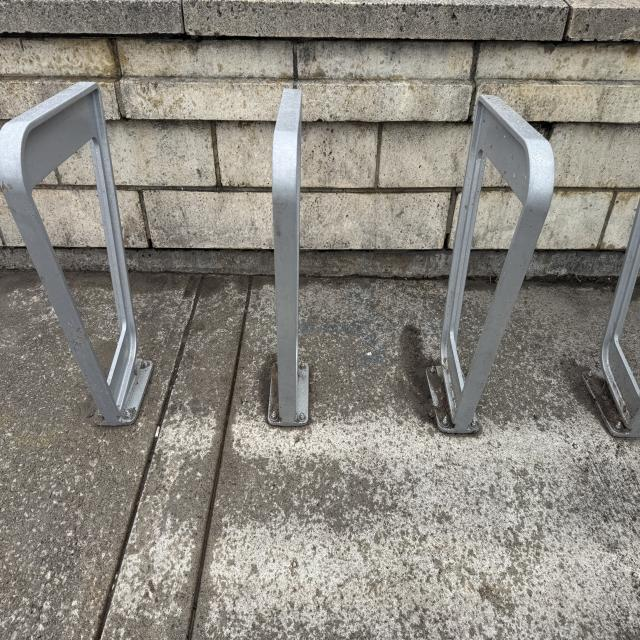Bicycle Rack: (0, 81, 150, 419), (425, 92, 561, 430), (259, 90, 324, 432), (592, 196, 640, 430)
